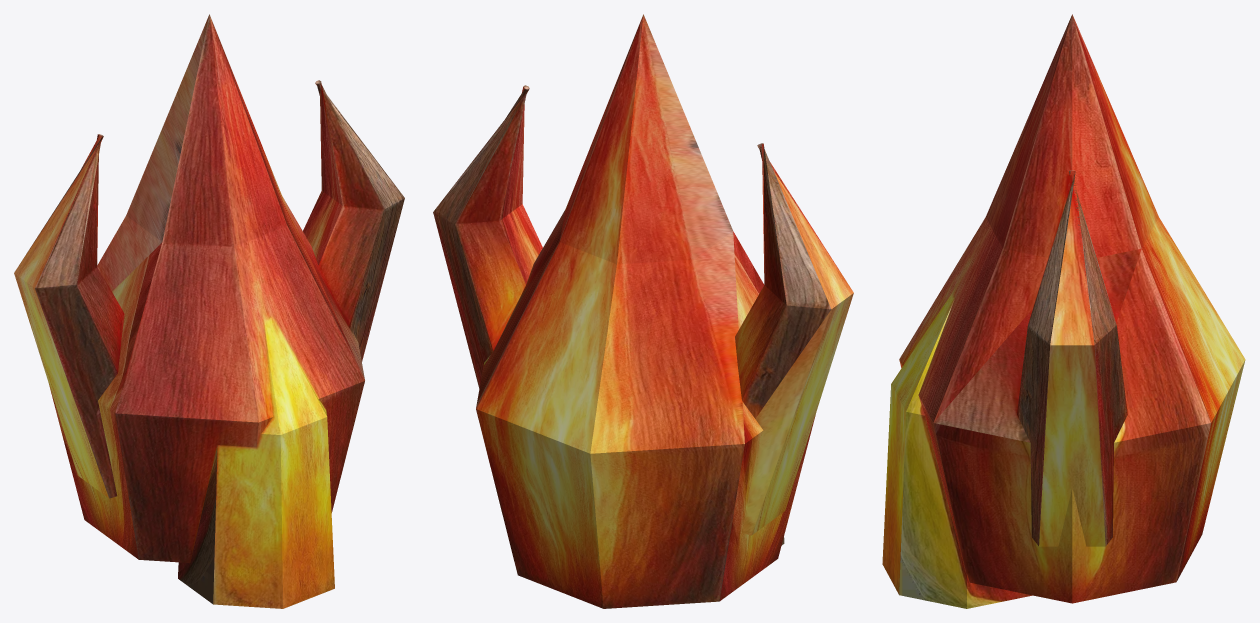
File: evil_hand_flame.glb
The picture shows the model from 3 angles, left to right: view 1: azimuth 30°, elevation 25°; view 2: azimuth 150°, elevation 25°; view 3: azimuth 270°, elevation 25°; orthographic projection. The views are drawn at different scales.
Visible parts, largest first — view 1: Red magical flame.001, Bright flame heart.001, Curling flame tongue.002, Curling flame tongue.003; view 2: Red magical flame.001, Curling flame tongue.002, Curling flame tongue.003; view 3: Red magical flame.001, Curling flame tongue.003, Bright flame heart.001.
Boxes of the visible parts, bbox=[...] form: Red magical flame.001: bbox=[49, 14, 364, 562]; Bright flame heart.001: bbox=[178, 317, 334, 608]; Curling flame tongue.002: bbox=[14, 134, 124, 498]; Curling flame tongue.003: bbox=[303, 80, 404, 361]; Red magical flame.001: bbox=[476, 14, 815, 608]; Curling flame tongue.002: bbox=[735, 143, 853, 535]; Curling flame tongue.003: bbox=[433, 85, 542, 388]; Red magical flame.001: bbox=[899, 14, 1245, 603]; Curling flame tongue.003: bbox=[1017, 170, 1127, 546]; Bright flame heart.001: bbox=[882, 293, 1032, 608].
Bounding box in the file's own units: 0.2657 × 0.3607 × 0.2126.
Materials: 4 (4 with a texture image).
